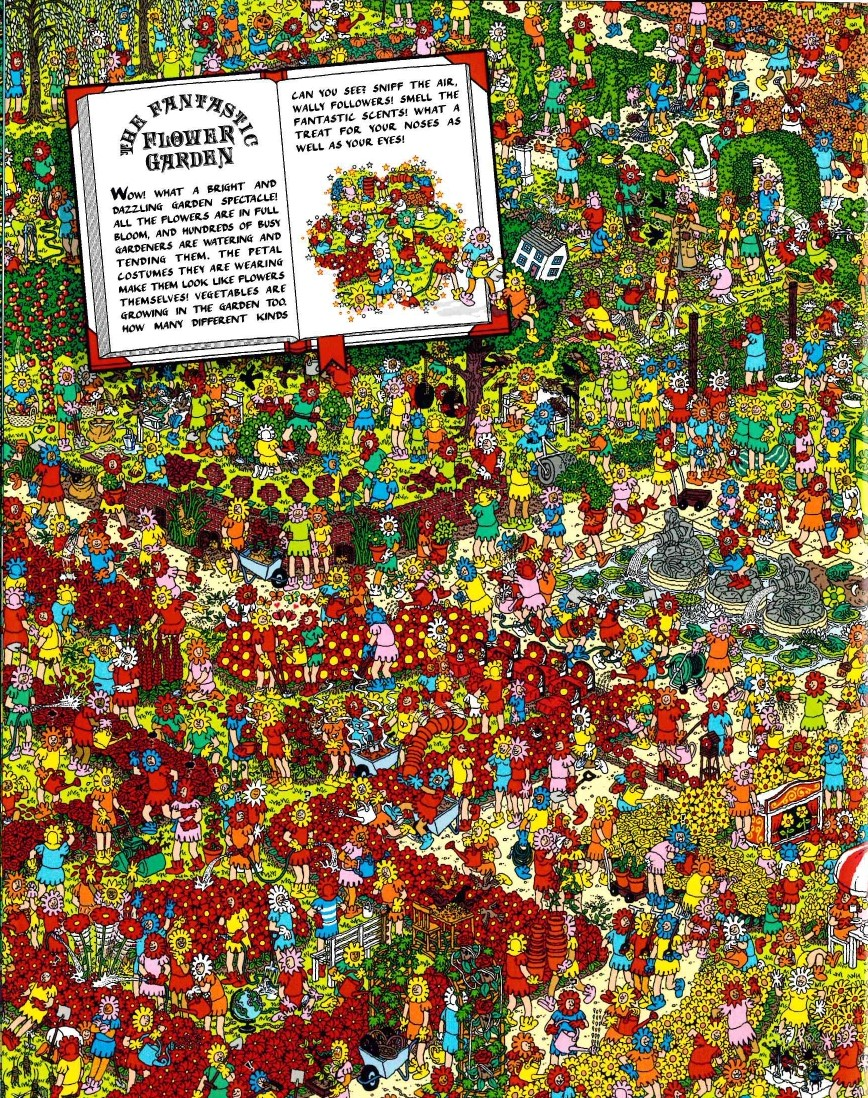waldos: (83, 11, 100, 51)
